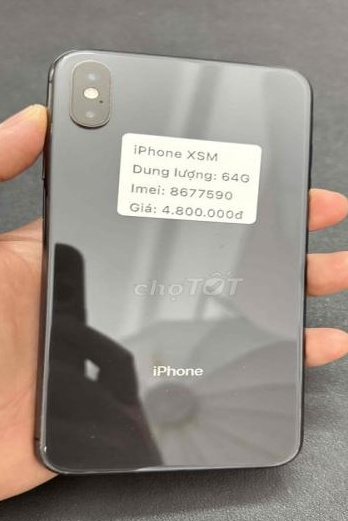scratch: (71, 401, 183, 459), (227, 347, 262, 403), (148, 386, 193, 408), (37, 441, 54, 456), (105, 84, 117, 96)
